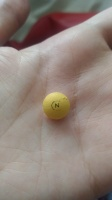Nurofen: (41, 91, 71, 122)
